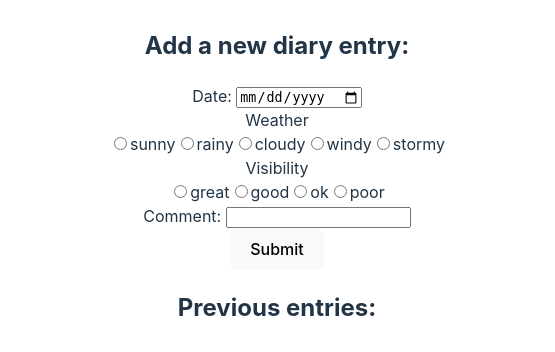
form input validation › submitting with an empty form should spawn error message
Click the button. click: (277, 249)
box: left=230, top=228, right=324, bottom=270
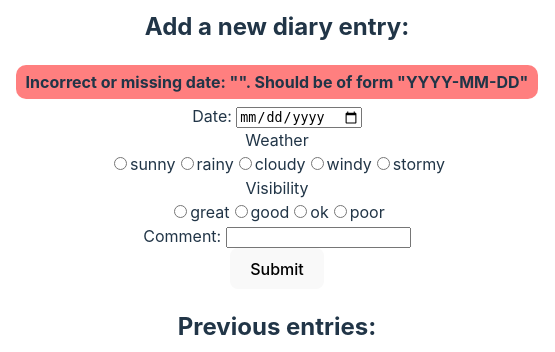
expect the text with test id "errmessage" is shown: met, box left=26, top=72, right=528, bottom=92
